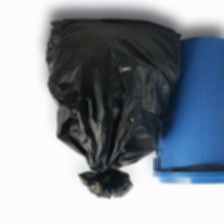plastic_bag: (41, 14, 190, 203)
